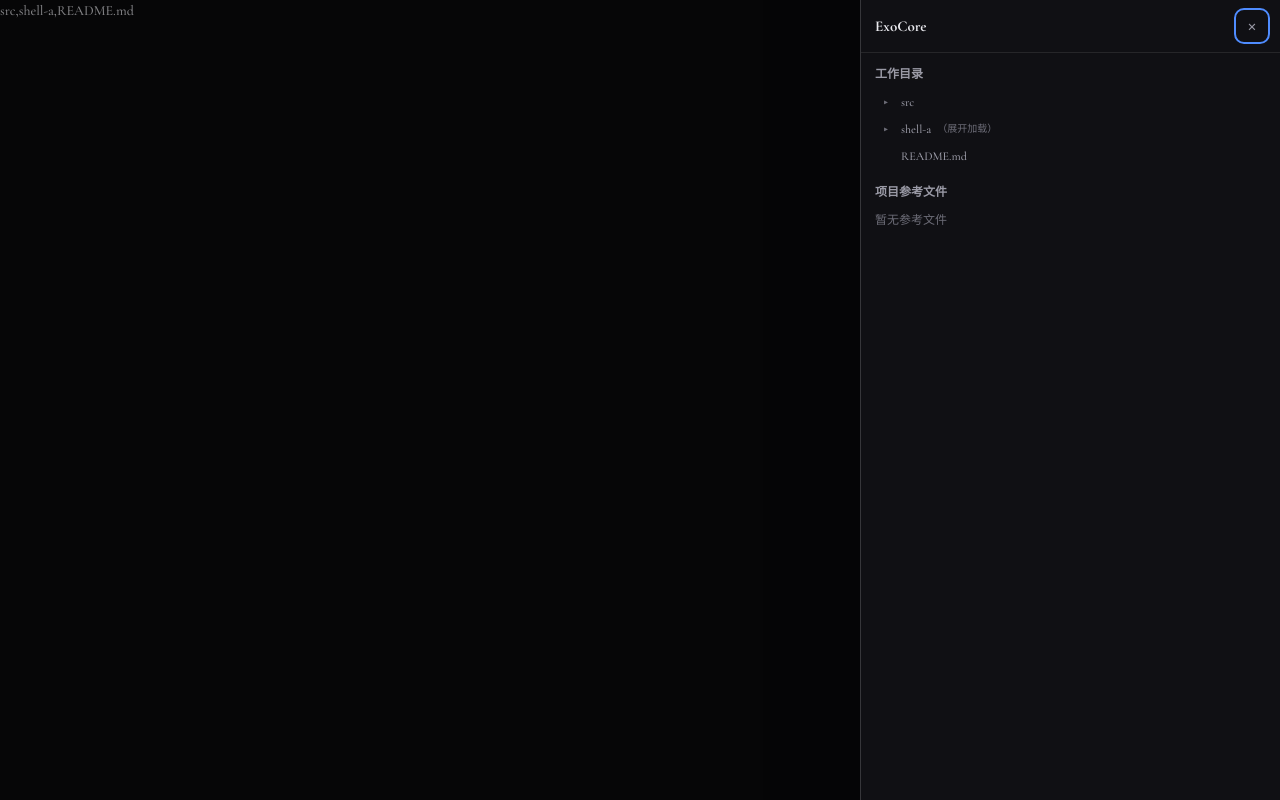
Test: P1D Project files drawer leaf › shares ONE combined Query owner and expands preloaded children without fetches
Expected: the text "shell-a" is shown, [901,120,931,138]
Click the button "▸ src": (886, 102) [875,89,1266,115]
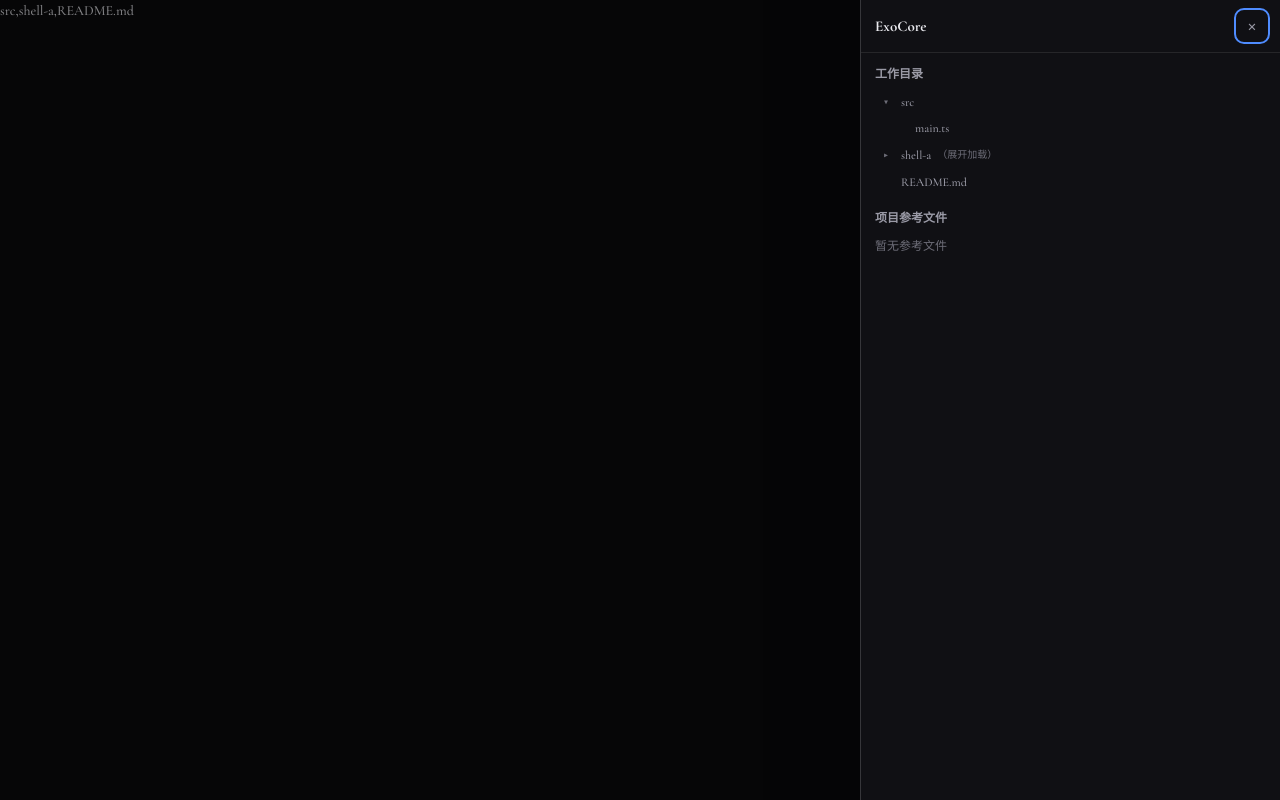
Expected: the text "main.ts" is shown, [915,119,949,137]
